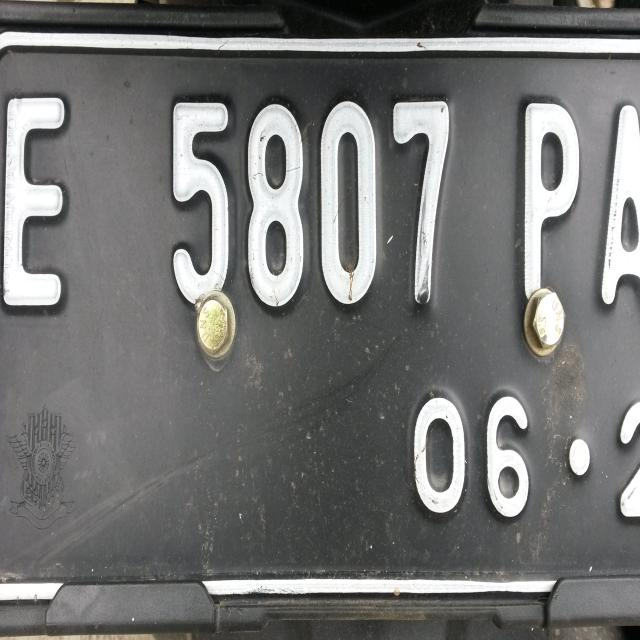plate: (0, 38, 639, 594)
